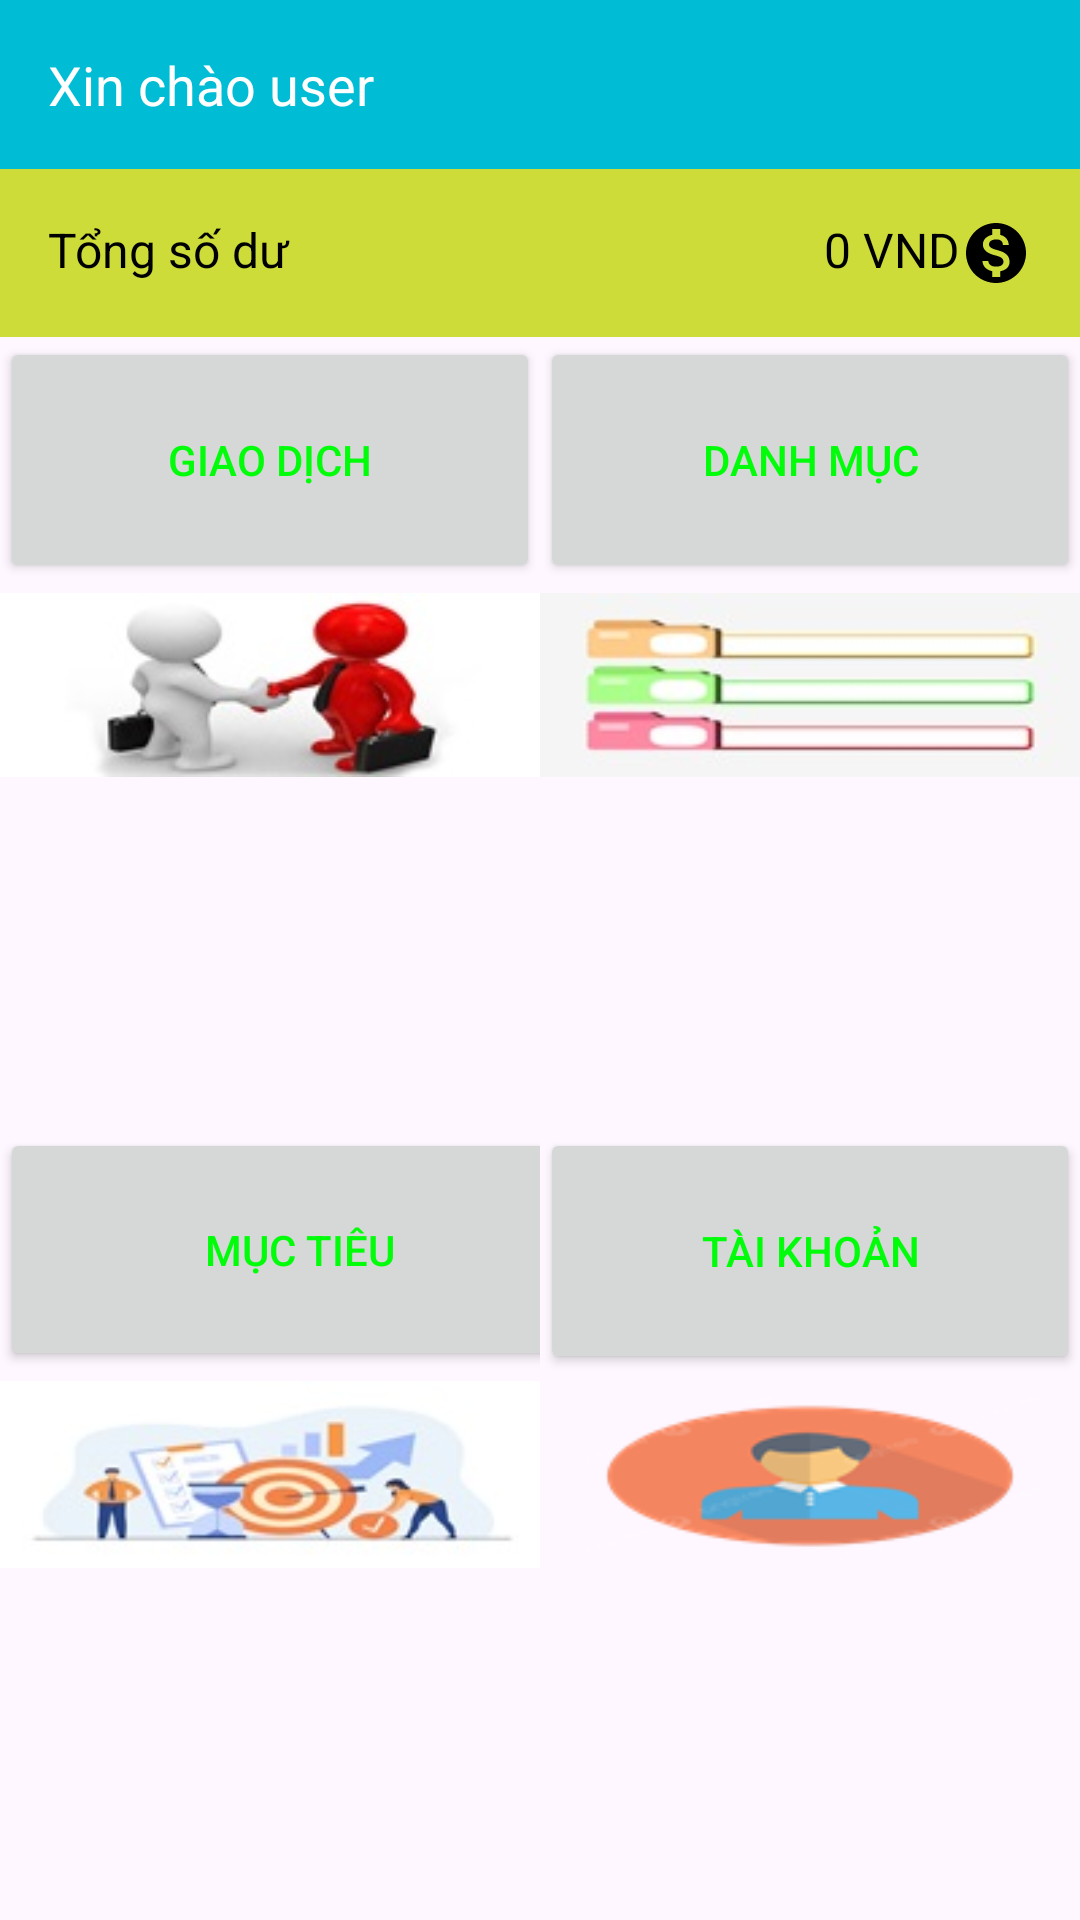

Icon bounding boxes for this 1080px x 1920px phone screenshot, format (x1, y1, x2, y2):
money: (966, 223, 1026, 283)
